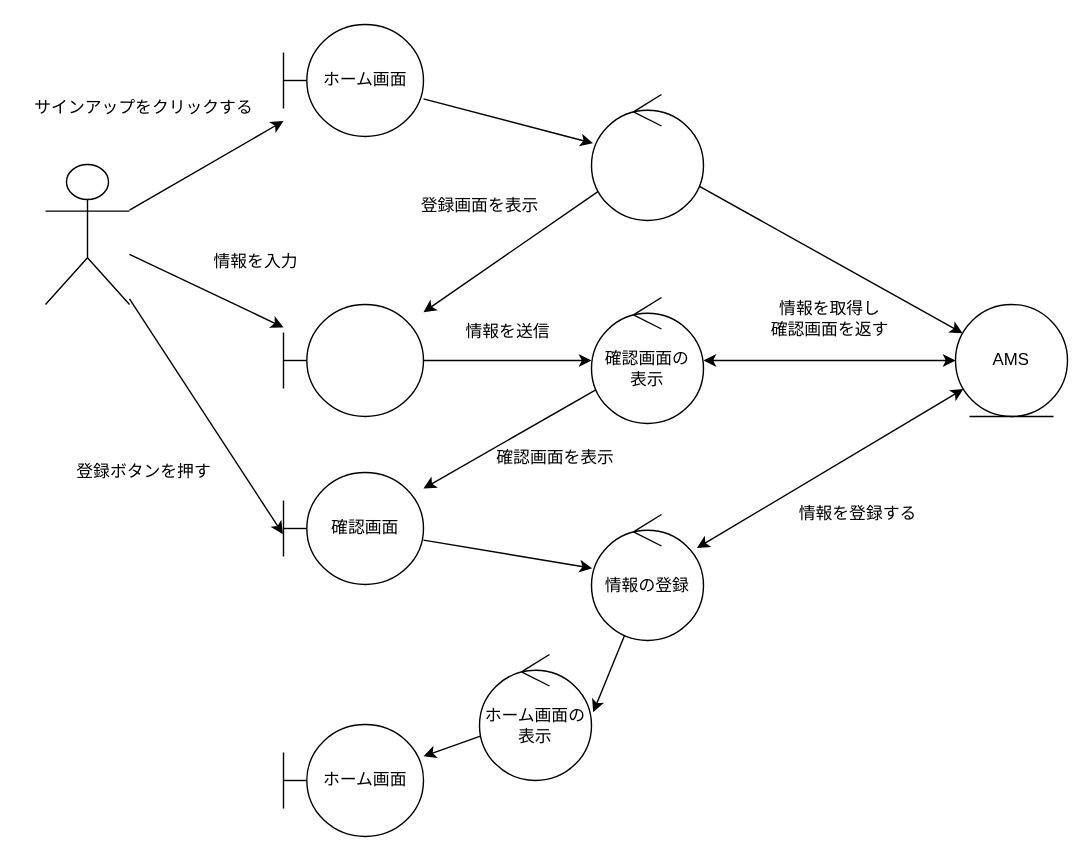
This 1092x861 diagram has some shape labels left out. Here are the shapes that lost their labels. From the top down, the centre of each, then its label:
At pixel 647 156: "初回登録画面 の表示".
At pixel 87 233: "Actor".
At pixel 353 359: "登録画面".
